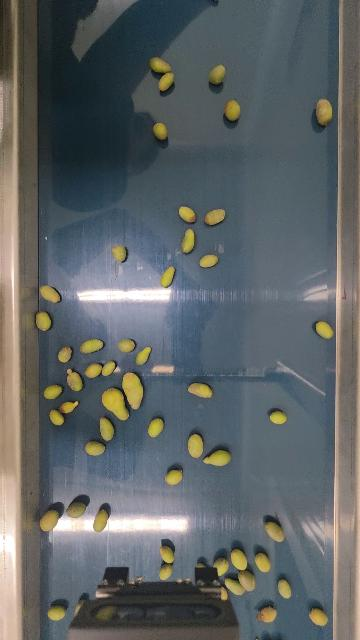Baby Potato: (101, 387, 131, 421), (121, 371, 144, 410), (187, 381, 215, 400), (204, 448, 232, 467), (315, 98, 334, 126), (264, 519, 286, 543), (207, 62, 228, 87), (39, 508, 60, 533), (148, 55, 174, 75), (187, 432, 205, 459), (66, 500, 89, 520), (156, 70, 176, 93), (180, 227, 197, 254), (98, 416, 115, 442), (204, 207, 226, 227), (39, 284, 61, 304), (230, 547, 249, 570), (223, 98, 241, 122), (309, 606, 329, 627), (237, 570, 256, 592), (223, 577, 245, 596), (66, 369, 84, 392), (159, 264, 176, 288), (315, 319, 334, 340), (256, 605, 278, 623), (93, 509, 109, 533), (80, 338, 104, 354), (35, 310, 52, 332), (254, 551, 271, 573), (147, 417, 164, 439), (178, 204, 197, 223), (43, 383, 63, 401), (152, 121, 169, 141), (85, 440, 106, 456), (47, 604, 66, 621), (135, 346, 151, 366), (277, 578, 292, 599), (165, 468, 183, 485), (48, 408, 65, 426), (85, 361, 103, 378), (57, 345, 73, 364), (269, 409, 288, 425), (111, 243, 127, 262), (214, 557, 229, 577), (199, 253, 219, 268), (160, 545, 175, 564), (117, 338, 135, 353), (59, 400, 79, 413), (159, 563, 173, 581), (102, 360, 116, 377), (73, 600, 84, 617), (220, 586, 229, 601)
